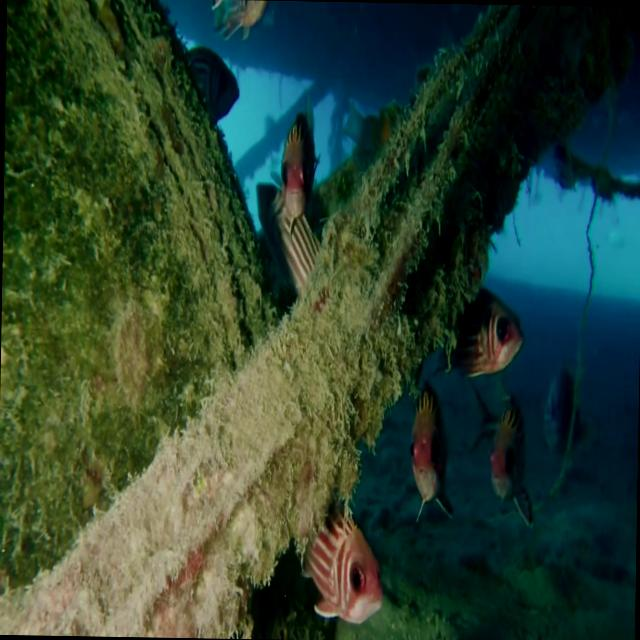Asker Baligi: (298, 497, 384, 625)
